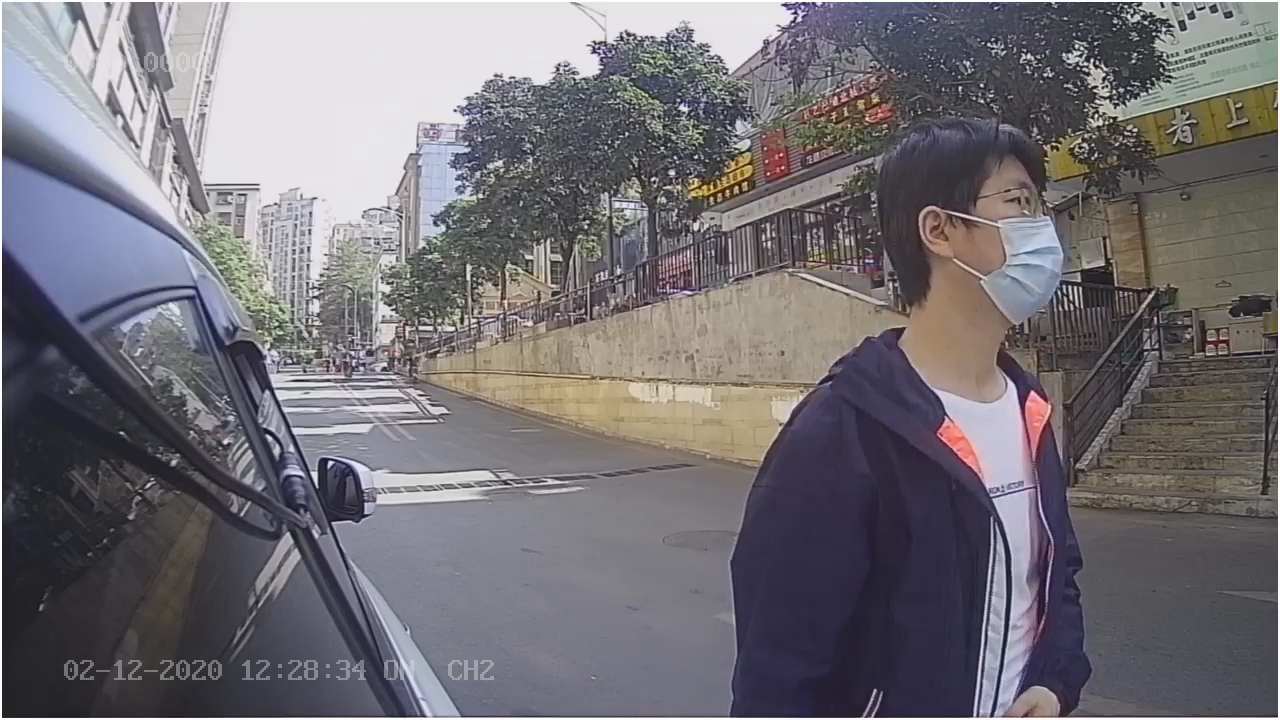person: (725, 99, 1096, 617)
